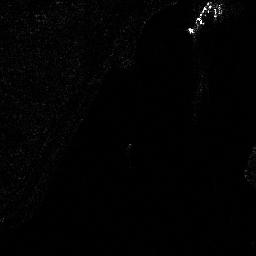ship: (187, 1, 213, 33)
